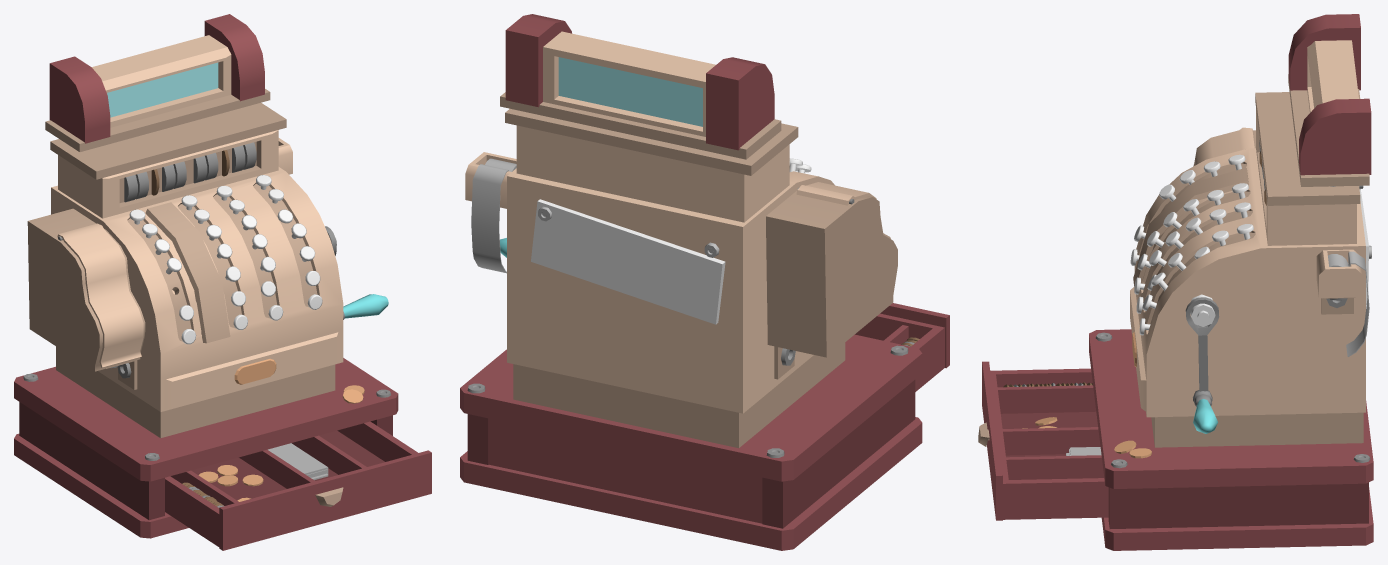
File: Registry_Box.fbx
3 renders of one model, left to right at view 1: azimuth 30°, elevation 25°; view 2: azimuth 150°, elevation 25°; view 3: azimuth 270°, elevation 25°, orthographic. The views are drawn at different scales.
Visible parts, largest first — view 1: Caja_registradora; view 2: Caja_registradora; view 3: Caja_registradora.
Part boxes in pixels (x1,y1,x2,y2): Caja_registradora: (14,14,431,550); Caja_registradora: (460,14,949,550); Caja_registradora: (978,14,1373,550).
Bounding box in the file's own units: 38.34 × 44.37 × 38.6.
